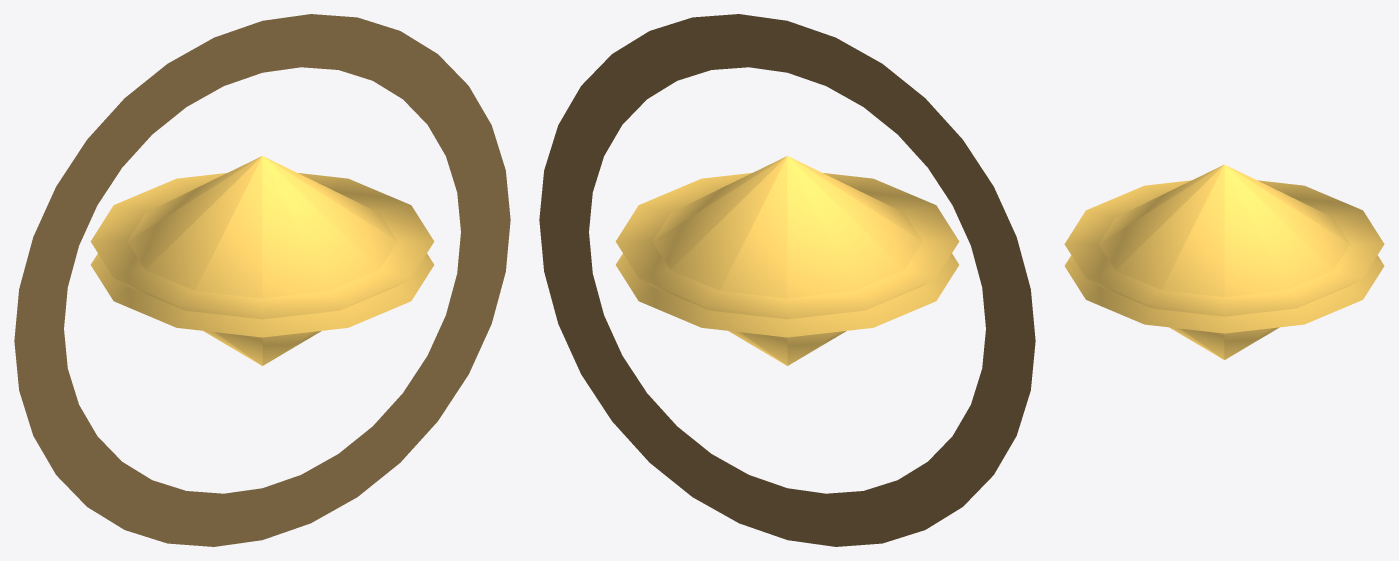
File: dawnheart.glb
The picture shows the model from 3 angles, left to right: view 1: azimuth 30°, elevation 25°; view 2: azimuth 150°, elevation 25°; view 3: azimuth 270°, elevation 25°; orthographic projection. The views are drawn at different scales.
Visible parts, largest first — view 1: core_ring, crystal_upper, crystal_lower; view 2: core_ring, crystal_upper, crystal_lower; view 3: crystal_upper, crystal_lower.
Part boxes in pixels (x1=…): core_ring: x1=14, y1=14, x2=510, y2=546; crystal_upper: x1=91, y1=156, x2=433, y2=337; crystal_lower: x1=90, y1=173, x2=434, y2=365; core_ring: x1=539, y1=14, x2=1035, y2=546; crystal_upper: x1=616, y1=156, x2=958, y2=337; crystal_lower: x1=615, y1=173, x2=959, y2=365; crystal_upper: x1=1064, y1=164, x2=1384, y2=333; crystal_lower: x1=1064, y1=180, x2=1384, y2=359.
Size of the model in its own units: 2.5 by 2.5 by 1.5.
